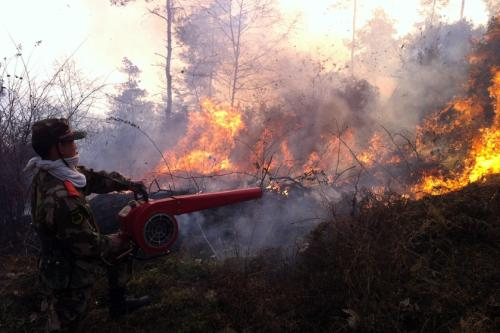fire: (423, 77, 500, 195), (152, 102, 236, 177)
